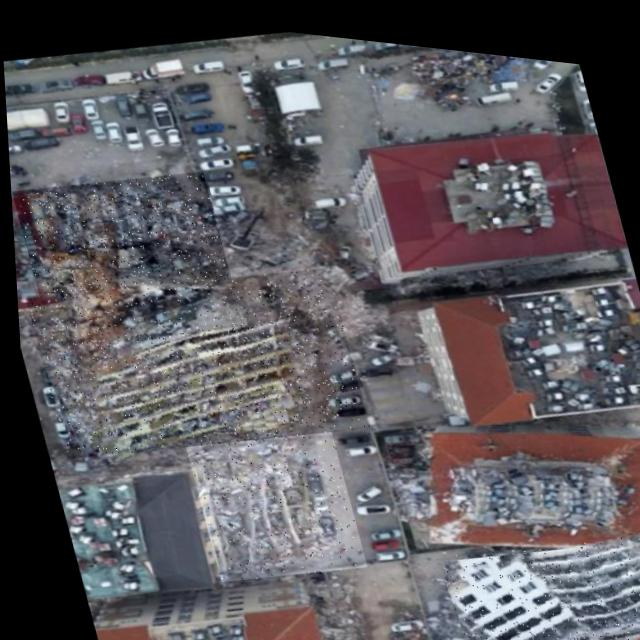Rubble: (17, 233, 367, 485), (7, 149, 230, 319), (176, 404, 361, 590), (429, 493, 640, 640)
